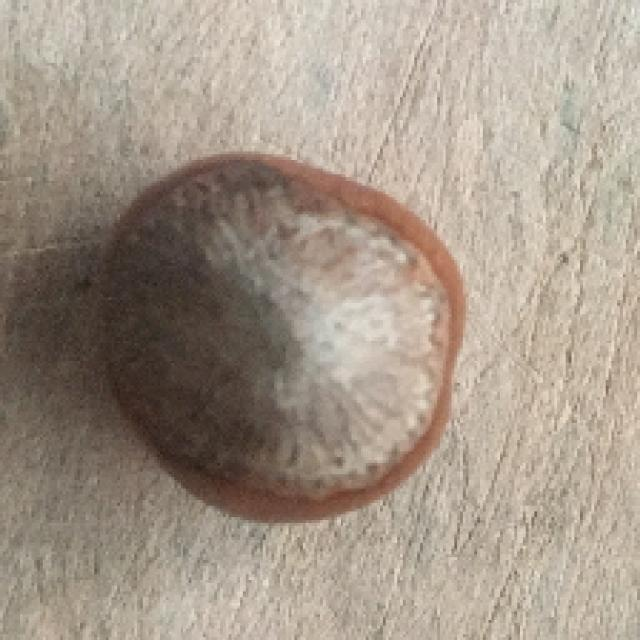qualityHazelnut: (90, 141, 463, 529)
